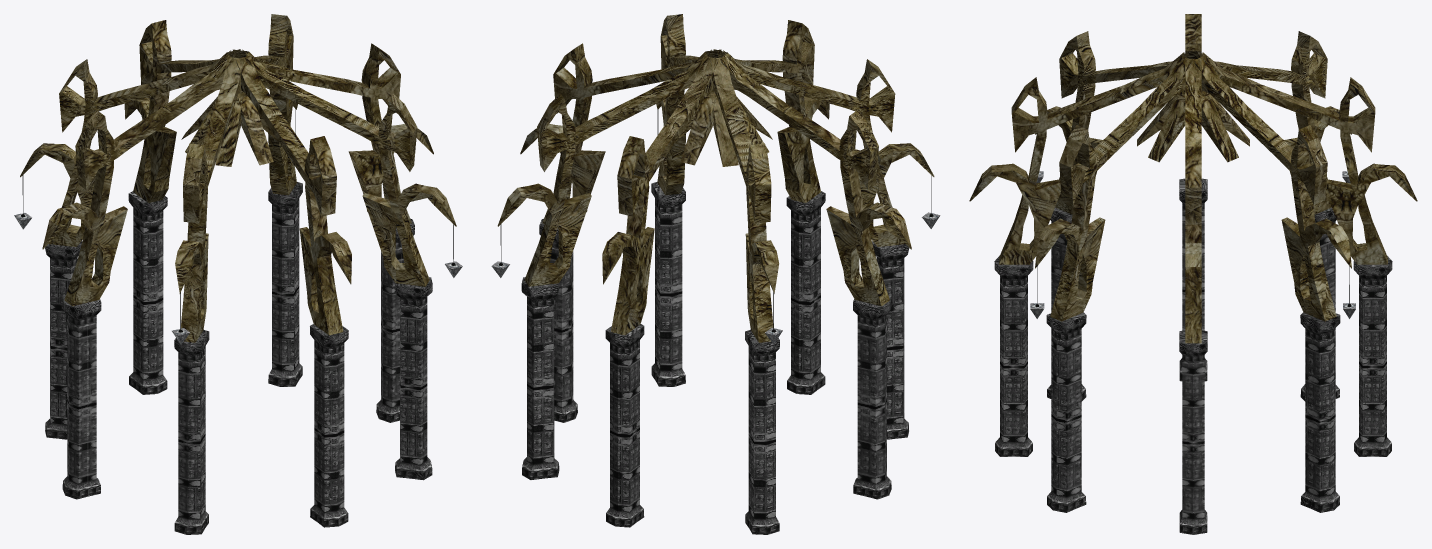
The model's file is MineralDisplay_NoGemstone.fbx.
The picture shows the model from 3 angles, left to right: view 1: azimuth 30°, elevation 25°; view 2: azimuth 150°, elevation 25°; view 3: azimuth 270°, elevation 25°; orthographic projection.
Parts seen in each view (by area): view 1: Mesh1; view 2: Mesh1; view 3: Mesh1.
Part boxes in pixels (bbox=[...]): Mesh1: bbox=[14, 14, 462, 534]; Mesh1: bbox=[491, 14, 940, 534]; Mesh1: bbox=[969, 14, 1417, 534].
Bounding box in the file's own units: 82.41 × 80.24 × 82.41.
